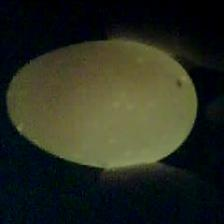infertile: (4, 36, 200, 168)
